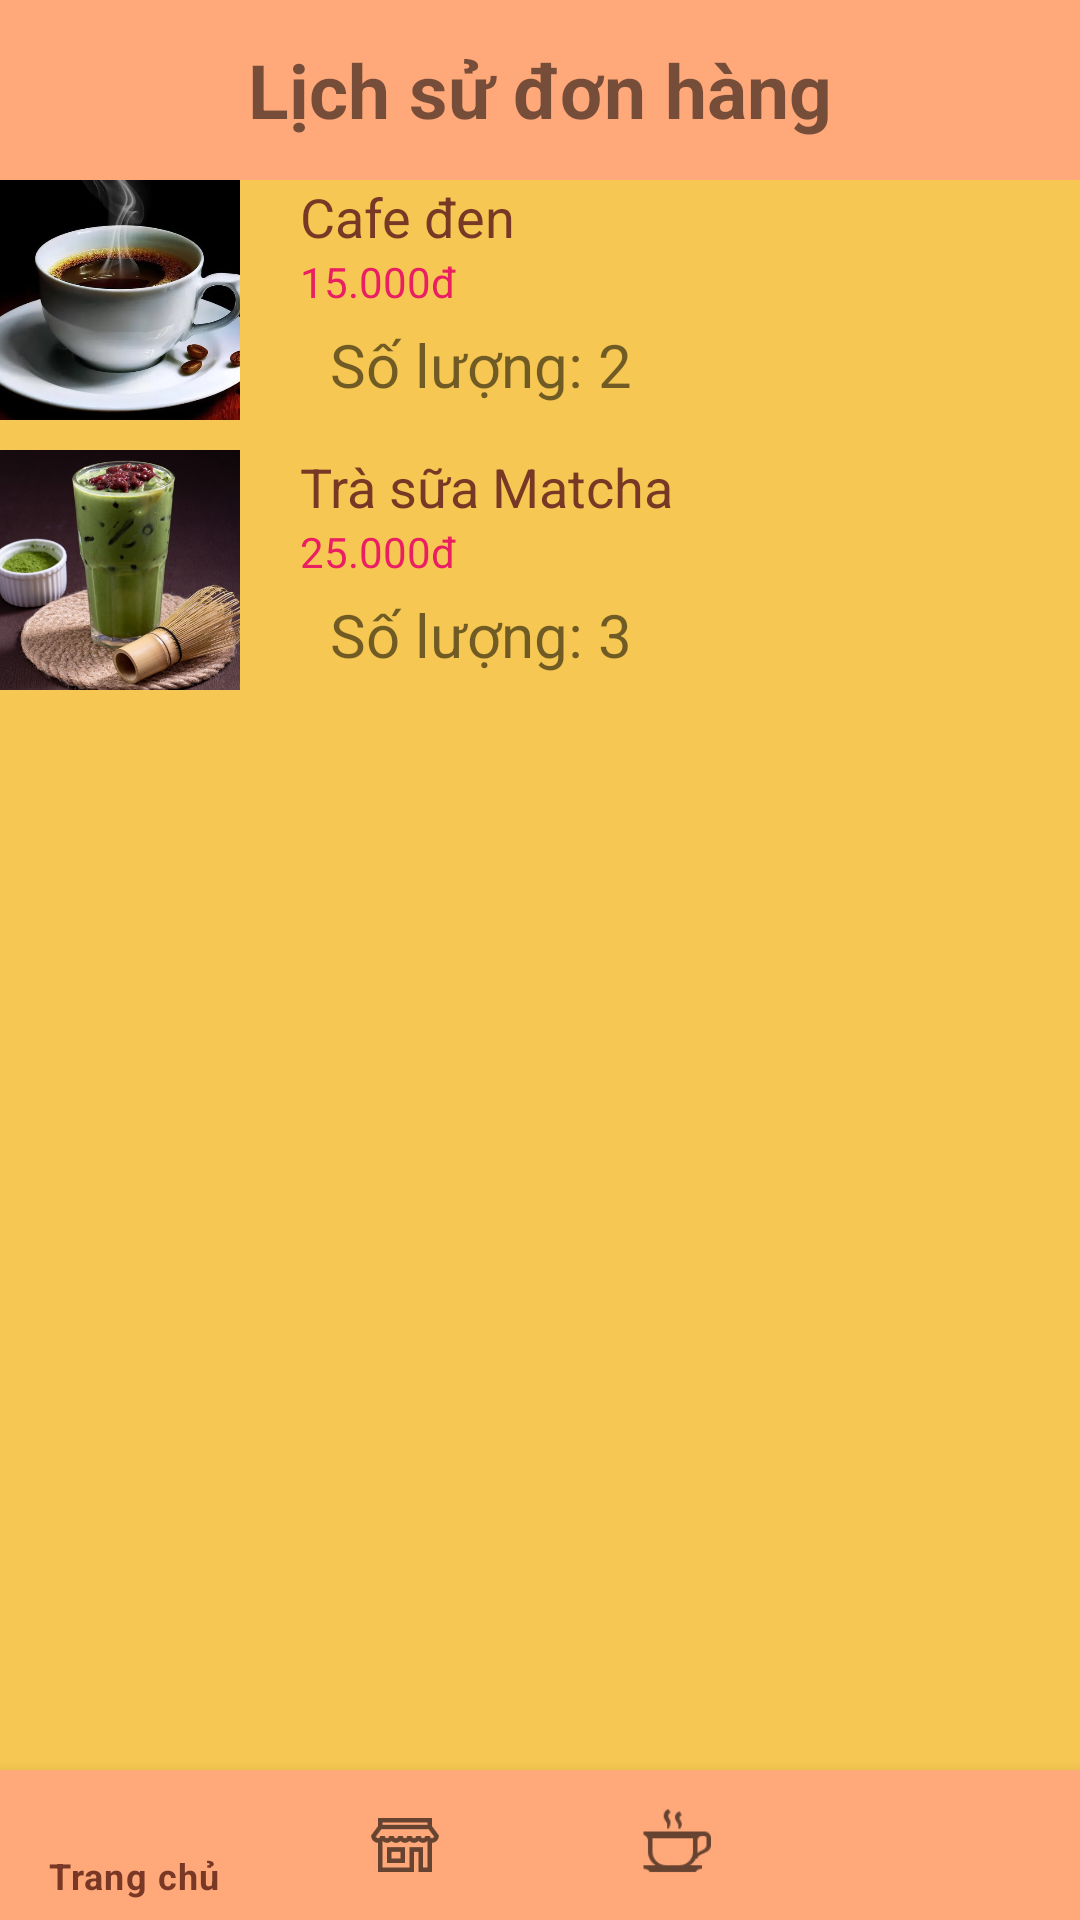

Point at icon controls on the screen. Image size 1080px x 1920px, points as (x,y).
cafeden: (120,300)
tsmatcha: (120,570)
